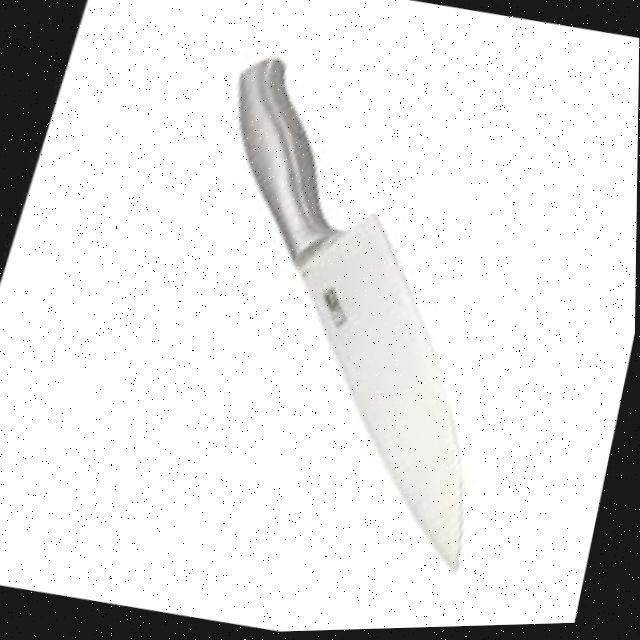knife: (141, 42, 561, 590)
